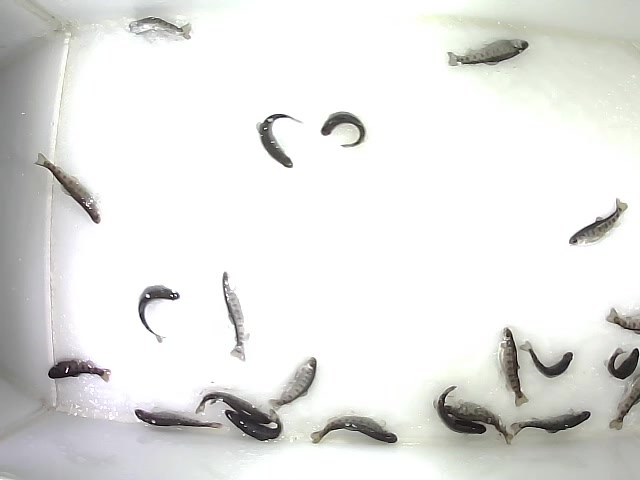fish: (32, 152, 102, 225), (433, 396, 514, 446), (567, 196, 629, 249), (432, 382, 487, 437), (254, 113, 304, 170), (136, 283, 182, 344), (309, 414, 399, 445), (194, 390, 273, 425), (269, 356, 317, 411), (221, 270, 249, 364), (445, 37, 531, 67), (498, 327, 529, 407), (511, 408, 591, 438), (518, 339, 573, 379), (133, 407, 224, 430), (225, 409, 284, 443), (319, 109, 366, 150), (47, 357, 113, 384), (129, 16, 193, 41), (604, 345, 640, 380)
